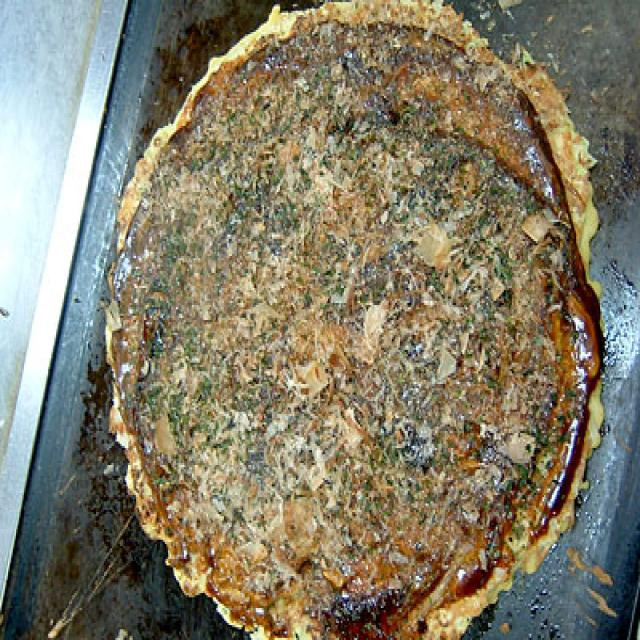蛋糕甜品: (98, 0, 606, 640)
